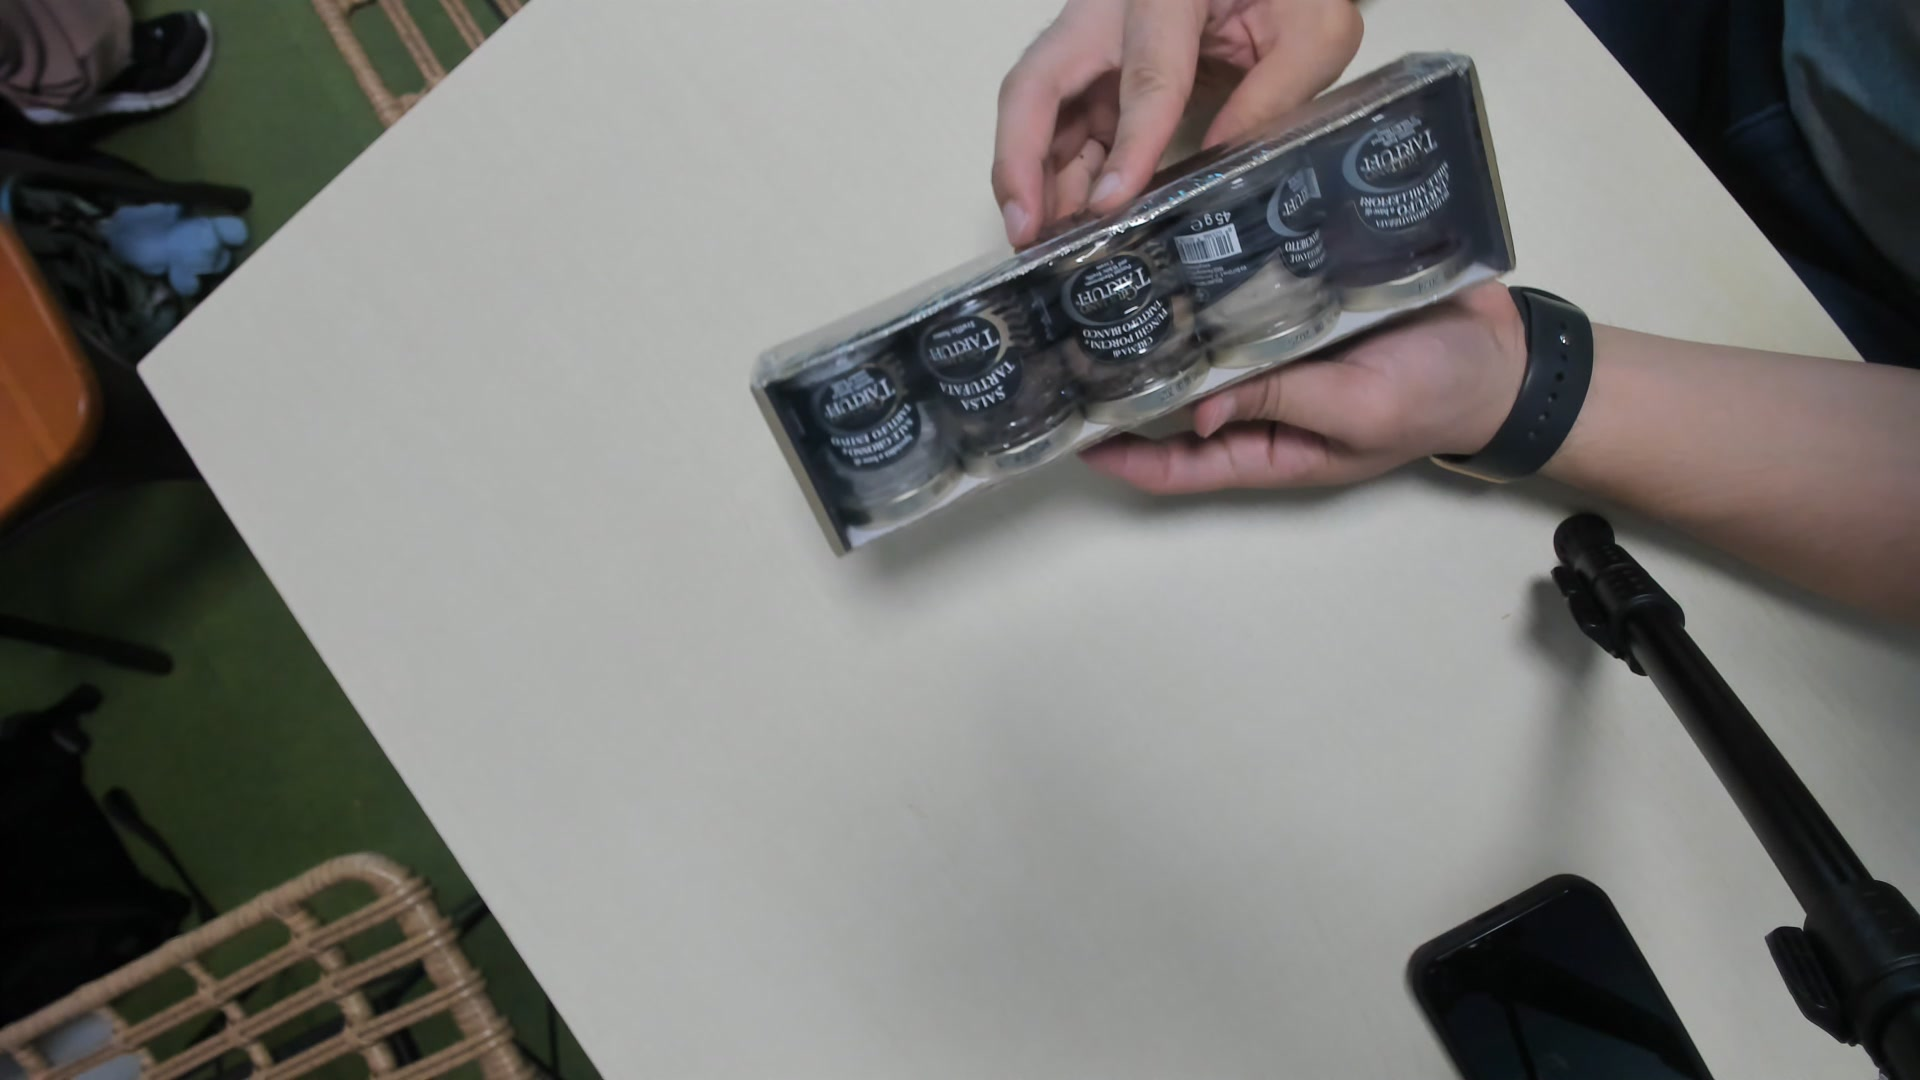OtherSauceDressing_500-599g_NonHalal_NonHealthy: (760, 46, 1522, 553)
